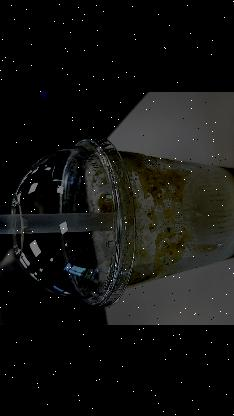Others: (8, 137, 234, 307), (8, 132, 138, 306), (0, 197, 114, 248)
